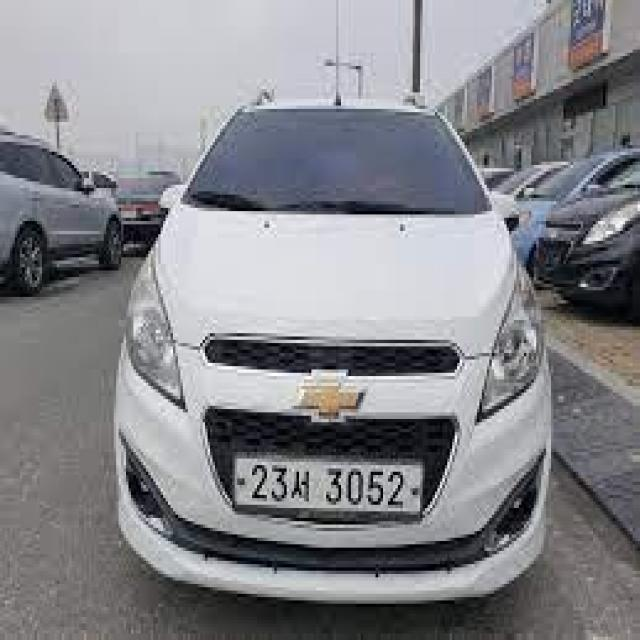car: (102, 75, 570, 603)
illegal_plate: (229, 450, 428, 529)
